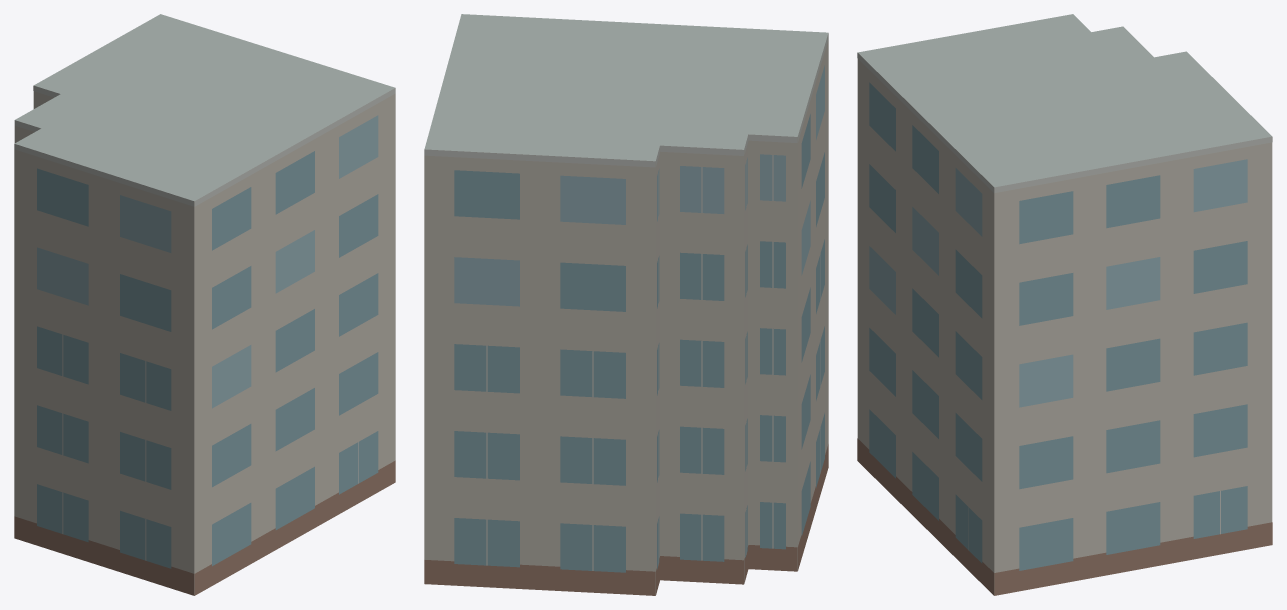
File: survey-upis-32582134.glb
3 renders of one model, left to right at view 1: azimuth 30°, elevation 25°; view 2: azimuth 150°, elevation 25°; view 3: azimuth 270°, elevation 25°, orthographic. The views are drawn at different scales.
Parts seen in each view (by area): view 1: survey-upis-32582134.tmp; view 2: survey-upis-32582134.tmp; view 3: survey-upis-32582134.tmp.
Part boxes in pixels (<box>): survey-upis-32582134.tmp: <box>14,14,395,595</box>; survey-upis-32582134.tmp: <box>424,14,828,595</box>; survey-upis-32582134.tmp: <box>857,14,1272,595</box>.
Bounding box in the file's own units: 15.58 × 17.1 × 15.75.
